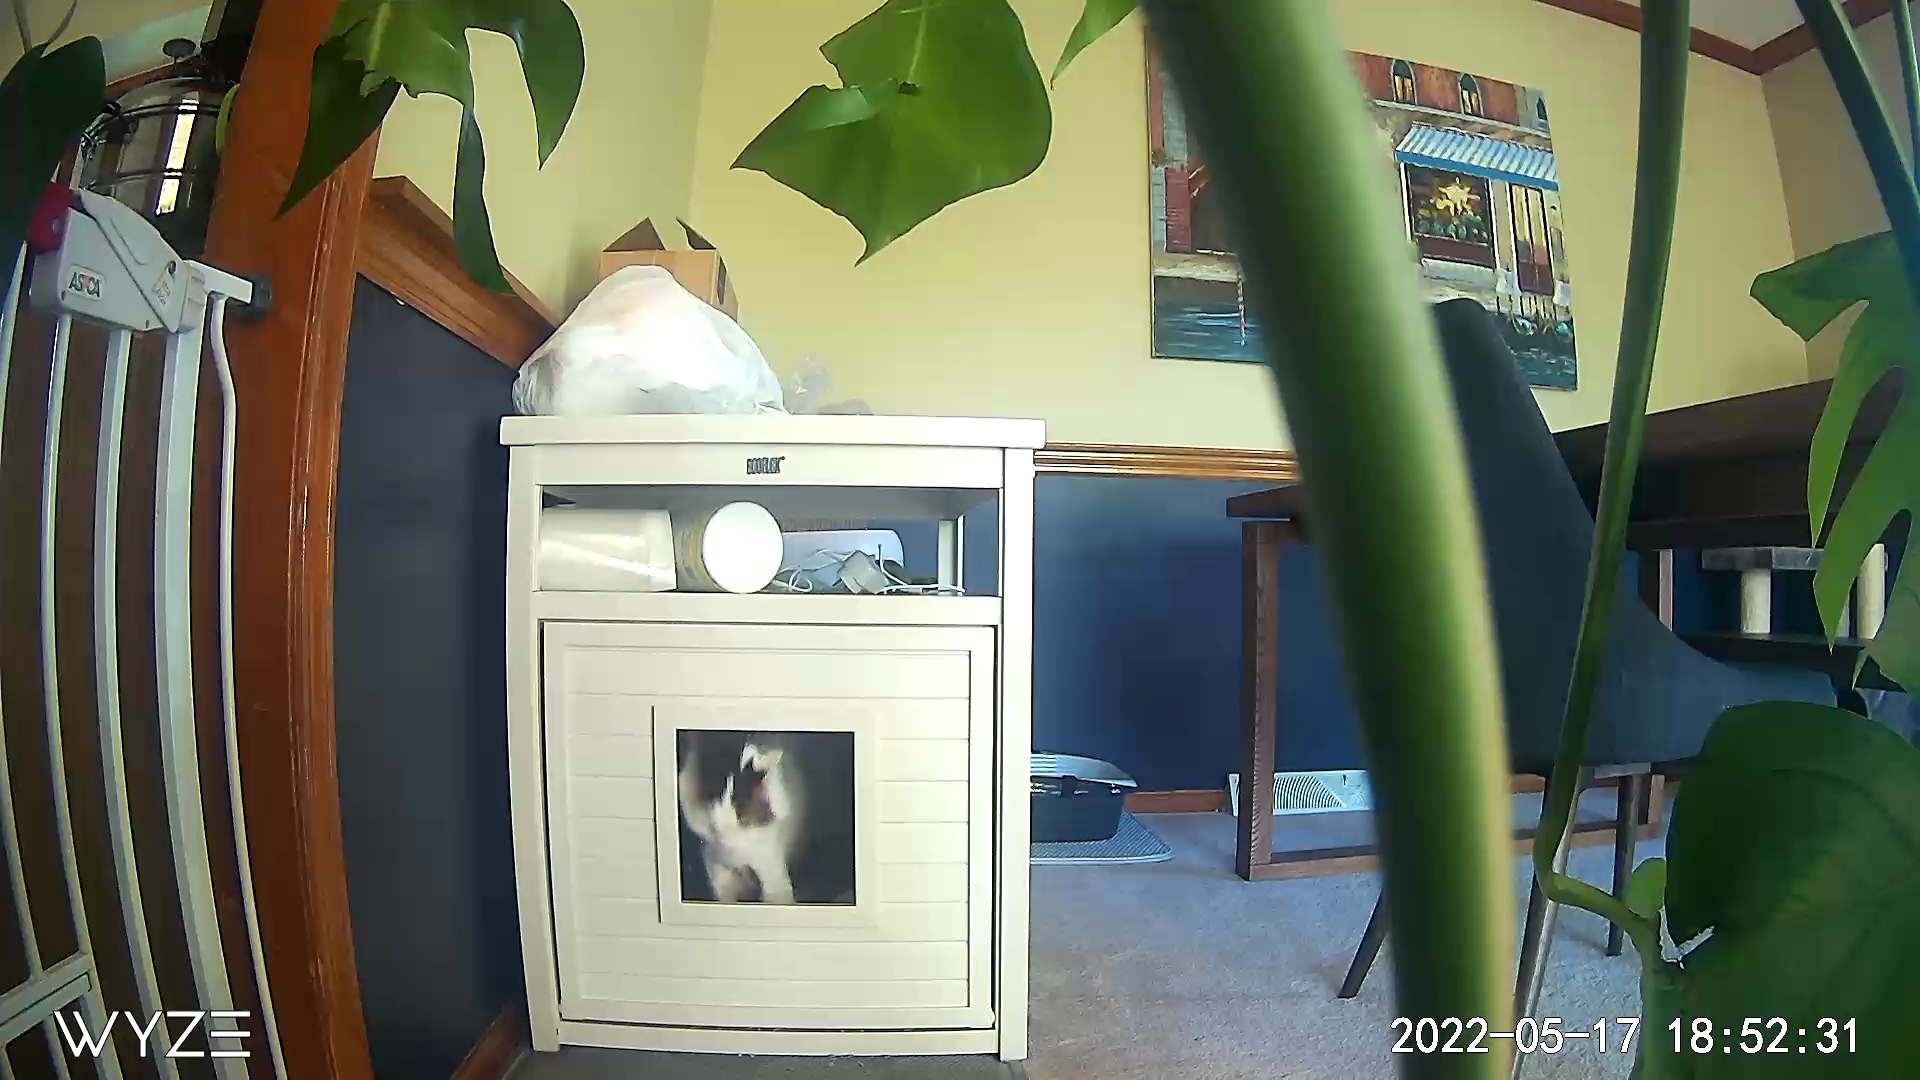maoxin: (686, 727, 860, 905)
